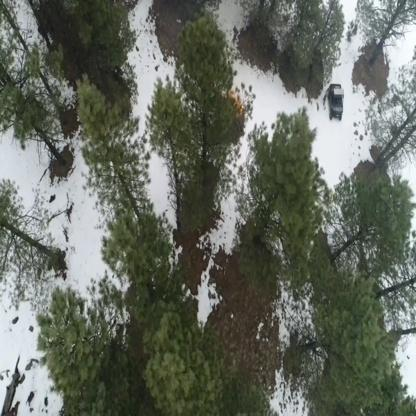Fire: (240, 101, 244, 112)
